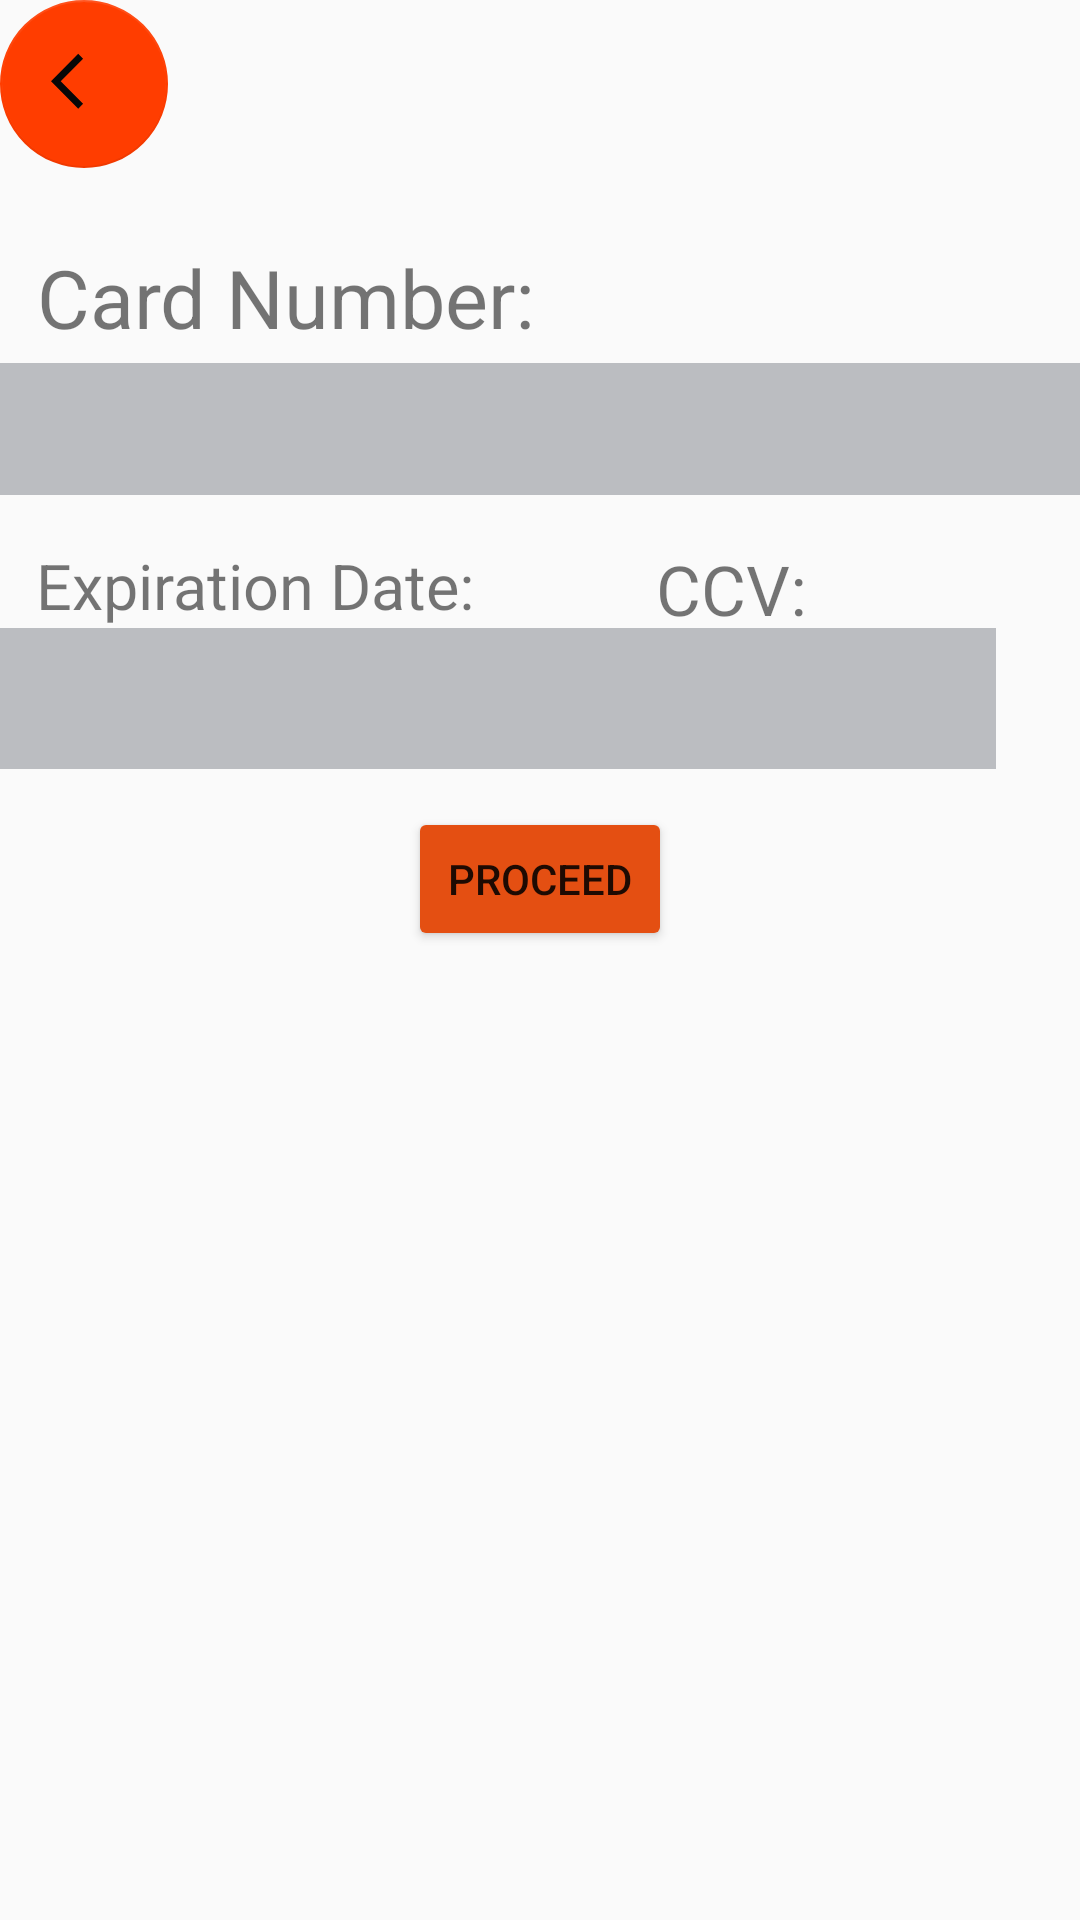

Named icons in this screenshot (1080*1920) and their centers, [x,y]:
backw: [84,84]
